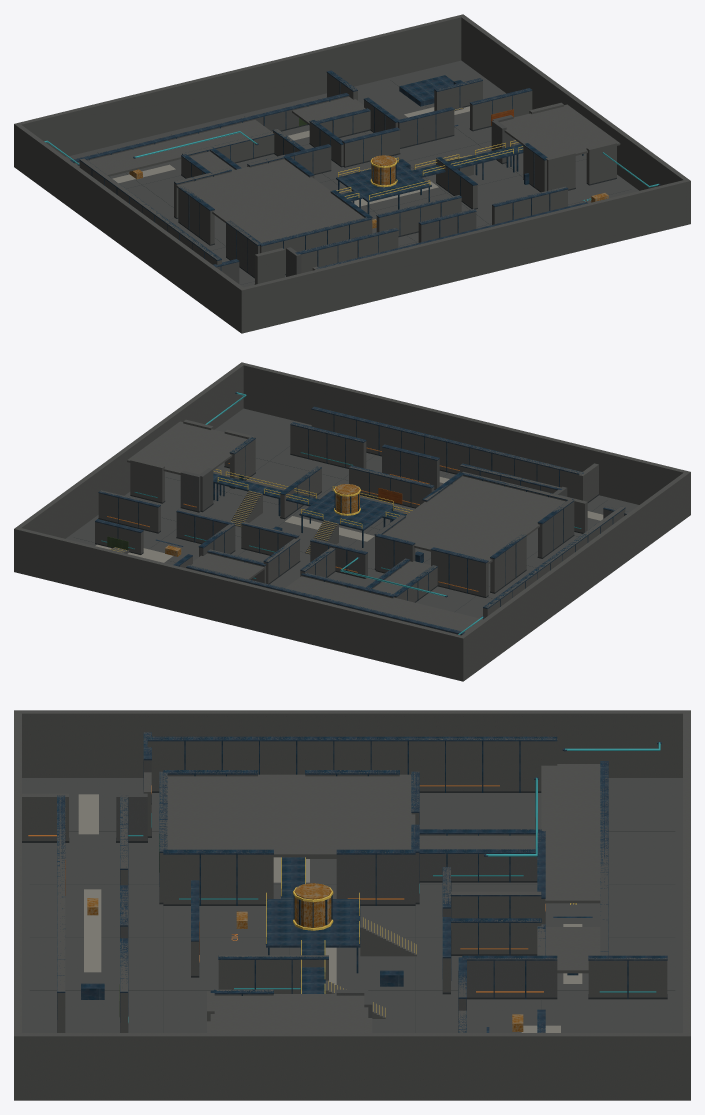
The model's file is foundry_depot.glb.
3 renders of one model, top to bottom at view 1: azimuth 30°, elevation 25°; view 2: azimuth 150°, elevation 25°; view 3: azimuth 270°, elevation 25°, orthographic. The views are drawn at different scales.
Parts seen in each view (by area): view 1: GEO-map_boundary_south, GEO-map_boundary_north, GEO-map_floor, GEO-map_boundary_west, GEO-map_overhead_00, GEO-map_boundary_east, GEO-map_overhead_01, GEO-map_overhead_02, GEO-map_wall_05, GEO-map_wall_08, GEO-map_catwalk_01, GEO-map_wall_16 (+27 smaller); view 2: GEO-map_boundary_north, GEO-map_floor, GEO-map_boundary_south, GEO-map_boundary_west, GEO-map_overhead_00, GEO-map_boundary_east, GEO-map_wall_04, GEO-map_overhead_01, GEO-map_overhead_02, GEO-map_wall_07, GEO-map_wall_14, GEO-map_wall_08 (+31 smaller); view 3: GEO-map_floor, GEO-map_boundary_east, GEO-map_boundary_west, GEO-map_overhead_00, GEO-map_wall_08, GEO-map_overhead_02, GEO-map_overhead_01, GEO-map_wall_11, GEO-map_wall_12, GEO-map_wall_36, GEO-map_catwalk_01, GEO-map_wall_35 (+27 smaller).
Boxes of the visible parts, <box> form: GEO-map_boundary_south: <box>239,180,690,333</box>; GEO-map_boundary_north: <box>14,15,465,167</box>; GEO-map_floor: <box>66,60,638,287</box>; GEO-map_boundary_west: <box>14,123,245,332</box>; GEO-map_overhead_00: <box>175,159,363,242</box>; GEO-map_boundary_east: <box>459,14,690,224</box>; GEO-map_overhead_01: <box>500,104,620,157</box>; GEO-map_overhead_02: <box>75,119,271,176</box>; GEO-map_wall_05: <box>299,228,398,273</box>; GEO-map_wall_08: <box>79,158,221,264</box>; GEO-map_catwalk_01: <box>336,162,431,202</box>; GEO-map_wall_16: <box>376,195,461,235</box>; GEO-map_boundary_north: <box>14,528,465,681</box>; GEO-map_floor: <box>66,408,638,618</box>; GEO-map_boundary_south: <box>240,362,690,515</box>; GEO-map_boundary_west: <box>458,471,690,681</box>; GEO-map_overhead_00: <box>383,476,565,564</box>; GEO-map_boundary_east: <box>14,362,245,572</box>; GEO-map_wall_04: <box>311,408,583,499</box>; GEO-map_overhead_01: <box>127,421,247,474</box>; GEO-map_overhead_02: <box>285,576,482,632</box>; GEO-map_wall_07: <box>290,423,366,468</box>; GEO-map_wall_14: <box>431,550,488,596</box>; GEO-map_wall_08: <box>483,506,625,619</box>; GEO-map_floor: <box>22,778,682,1032</box>; GEO-map_boundary_east: <box>14,1033,690,1100</box>; GEO-map_boundary_west: <box>14,710,690,777</box>; GEO-map_overhead_00: <box>167,774,415,857</box>; GEO-map_wall_08: <box>147,736,557,791</box>; GEO-map_overhead_02: <box>541,764,600,903</box>; GEO-map_overhead_01: <box>210,994,368,1032</box>; GEO-map_wall_11: <box>163,850,273,904</box>; GEO-map_wall_12: <box>336,850,415,904</box>; GEO-map_wall_36: <box>463,957,557,997</box>; GEO-map_catwalk_01: <box>266,899,360,947</box>; GEO-map_wall_35: <box>588,957,667,997</box>.
Size of the model in its own units: 98 by 9.24 by 86.
Materials: 14 (7 with a texture image).
